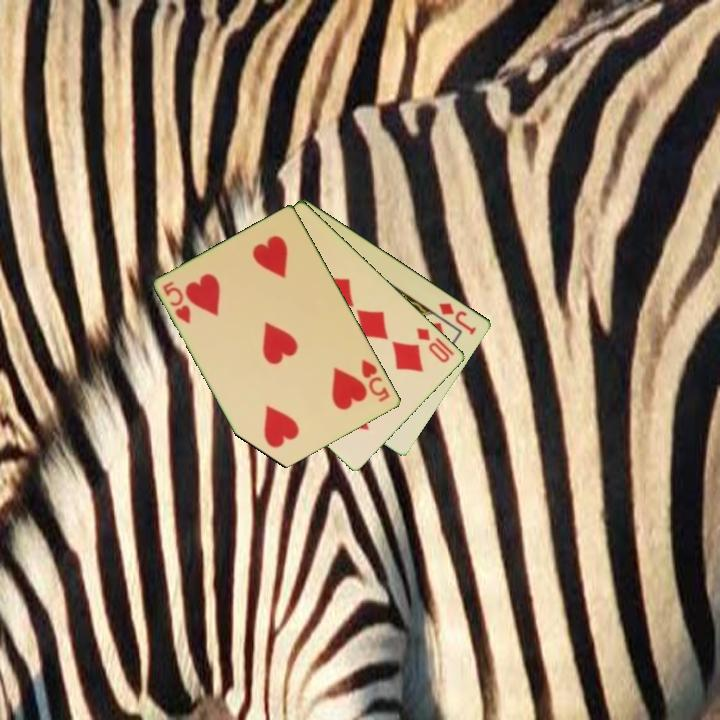10d: (413, 324, 457, 366)
5h: (159, 277, 194, 327), (358, 356, 393, 405)
Jd: (436, 299, 480, 338)
